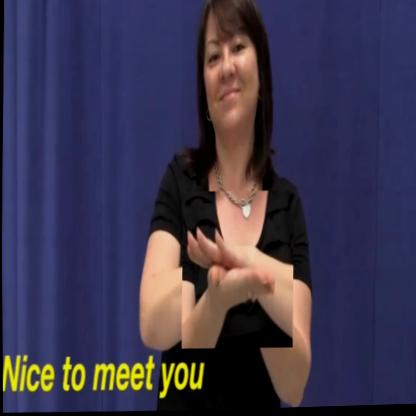NiceToMeetYou: (180, 190, 295, 351)
